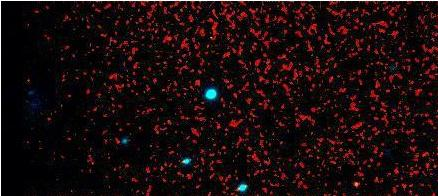star: (340, 168, 370, 196)
